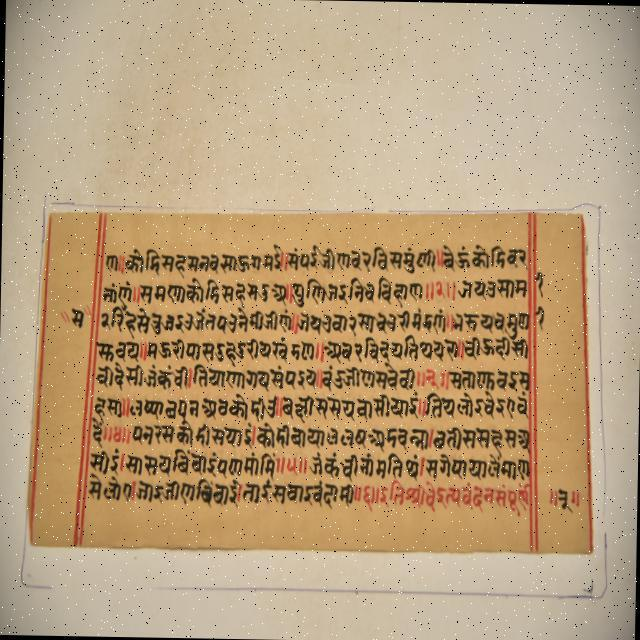text_paragraph: (22, 207, 593, 553)
